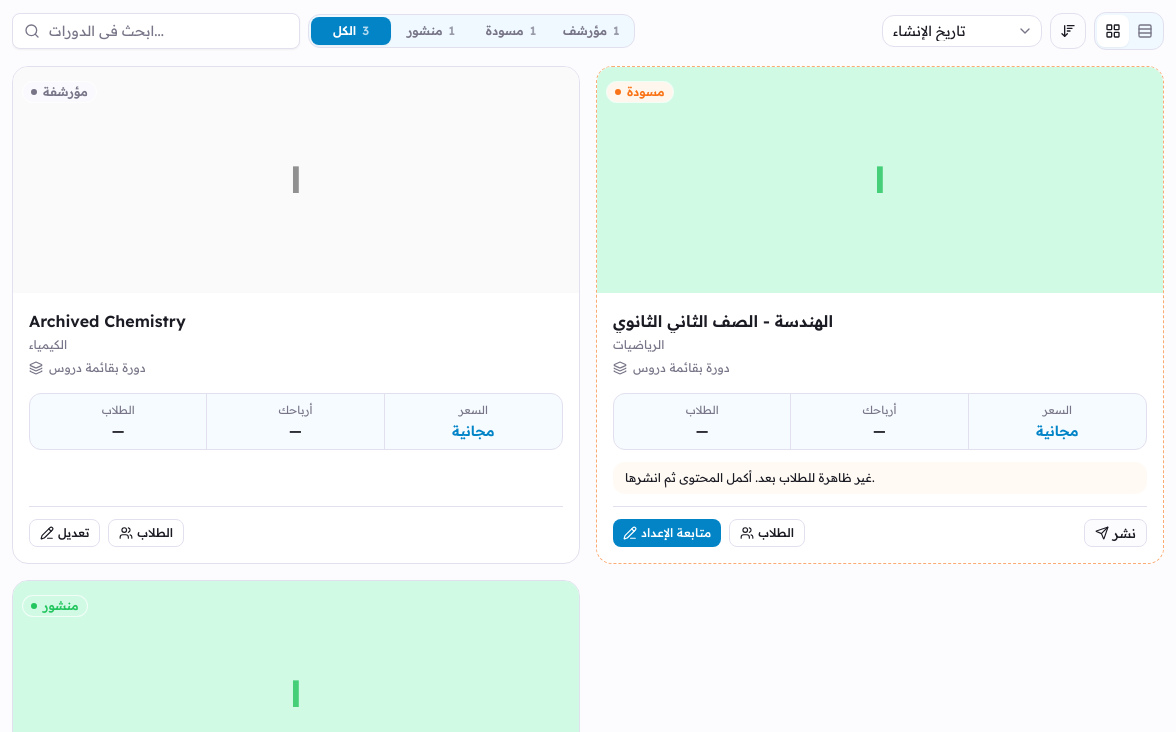
Test: CourseList › success state › draft filter excludes archived courses
Click the button "مسودة 1" at coordinates (511, 31), box top-left (471, 17), bottom-right (551, 45)
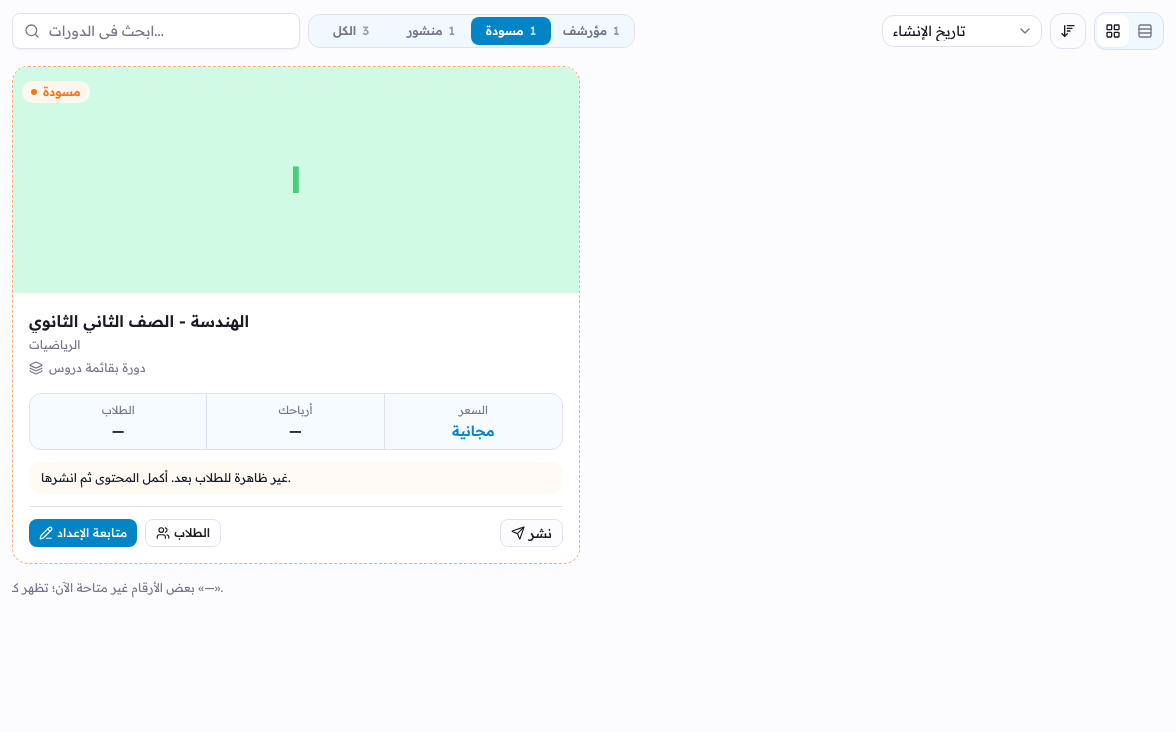
Expected: the link "الهندسة - الصف الثاني الثانوي" is shown, top-left (29, 311), bottom-right (249, 331)
Result: the link "Archived Chemistry" is gone
